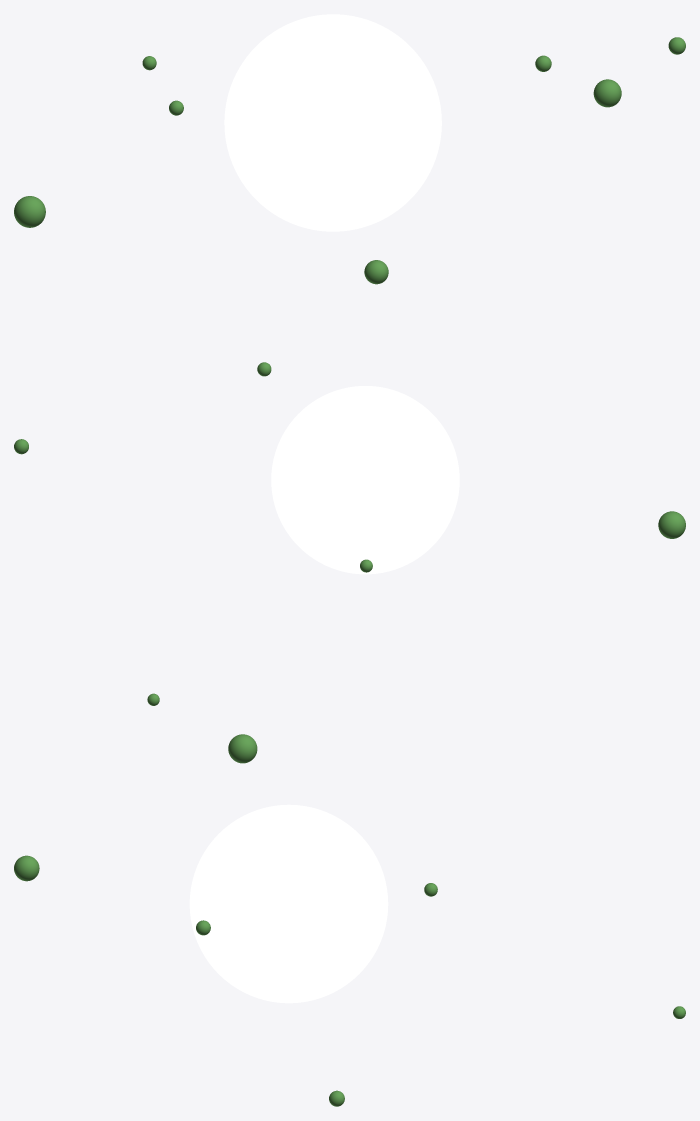
File: Planet System3.glb
3 renders of one model, top to bottom at view 1: azimuth 30°, elevation 25°; view 2: azimuth 150°, elevation 25°; view 3: azimuth 270°, elevation 25°, orthographic. The views are drawn at different scales.
Parts seen in each view (by area): view 1: Sun, Planet-3, Planet-2; view 2: Sun; view 3: Sun, Planet-3.
Part boxes in pixels (x1,y1,x2,y2): Sun: (224,14,441,231); Planet-3: (14,196,45,227); Planet-2: (593,79,621,107); Sun: (271,386,459,574); Sun: (189,804,388,1003); Planet-3: (228,734,257,763).
Bounding box in the file's own units: 7.64 × 2.29 × 6.77.
